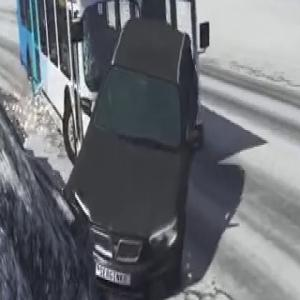fatal: (5, 0, 211, 300)
